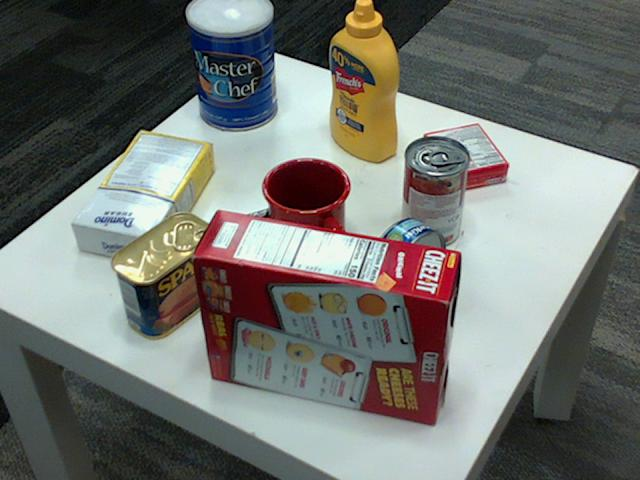cracker_box: (191, 209, 457, 422)
gelatin_box: (424, 123, 510, 191)
large_marker: (196, 200, 302, 247)
master_chef_can: (184, 0, 275, 130)
mug: (262, 154, 351, 262)
mustard_bottle: (329, 0, 398, 161)
potted_meat_can: (111, 211, 216, 339)
sugar_box: (72, 128, 214, 261)
tomato_soup_can: (400, 136, 468, 247)
tuna_fish_can: (365, 217, 446, 305)
